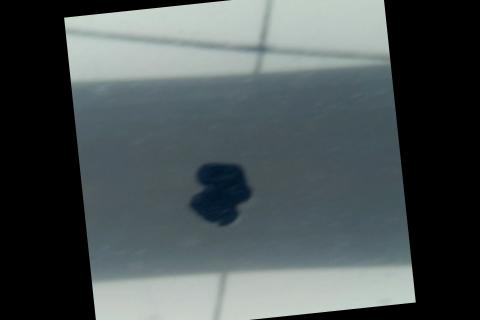kebocoran: (181, 157, 258, 231)
